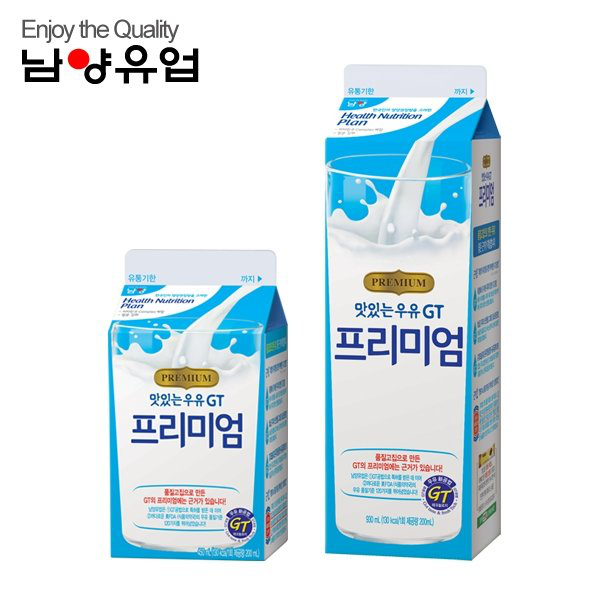milk: (324, 63, 502, 562), (107, 249, 290, 563)
